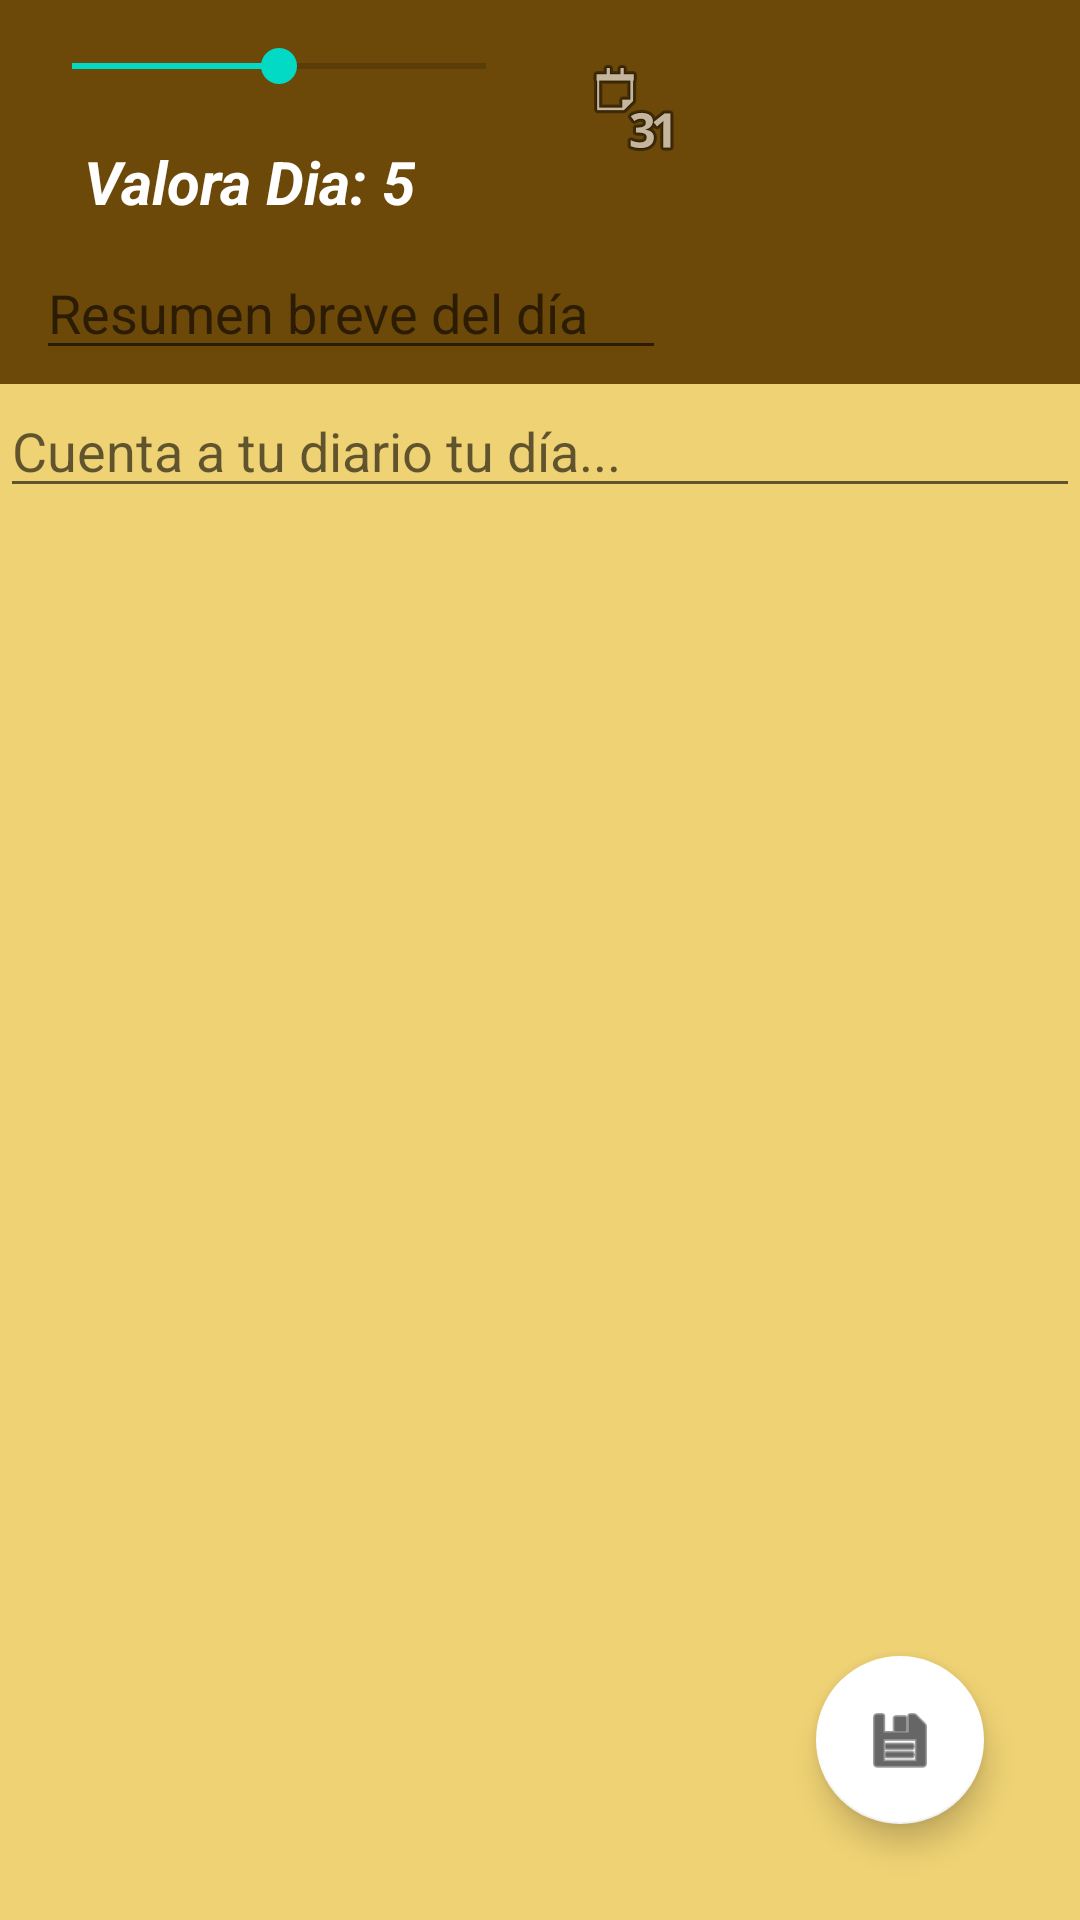

Icon click points for this 1080px×1920px phone screenshot, format (x=x, y=y):
month: (x=633, y=108)
save: (x=900, y=1740)
